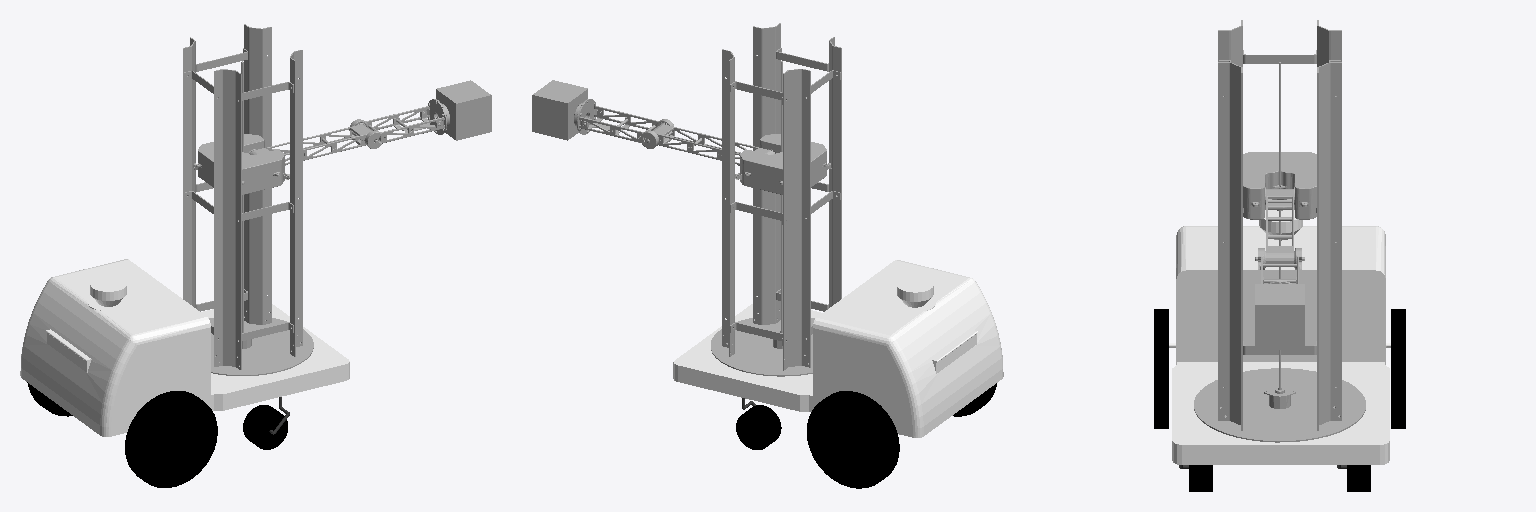
--- What the picture shows (computed from the rendered views, not written in the file) ---
The picture shows the robot from 3 angles, left to right: view 1: azimuth 30°, elevation 25°; view 2: azimuth 150°, elevation 25°; view 3: azimuth 270°, elevation 25°; orthographic projection.
Robot: butler5 — 18 links, 17 joints (3 revolute, 6 continuous, 1 prismatic, 7 fixed); root link base_link; default pose: all joints at 0.
Visible links, largest first — view 1: base_link, tower, back_right_wheel, arm_base, hand, arm_second, front_right_swivel_wheel, arm_first; view 2: base_link, tower, back_left_wheel, arm_base, hand, arm_second, front_left_swivel_wheel, arm_first; view 3: tower, base_link, arm_base, hand, back_right_wheel, back_left_wheel, arm_first, front_right_swivel_wheel, front_left_swivel_wheel, arm_second.
Boxes of the visible links, <box> form: base_link: <box>20,259,349,436</box>; tower: <box>183,24,313,375</box>; back_right_wheel: <box>125,391,217,487</box>; arm_base: <box>193,134,289,194</box>; hand: <box>436,80,491,140</box>; arm_second: <box>349,99,449,148</box>; front_right_swivel_wheel: <box>243,405,287,449</box>; arm_first: <box>249,123,378,164</box>; base_link: <box>673,260,1003,437</box>; tower: <box>711,23,841,376</box>; back_left_wheel: <box>807,391,899,488</box>; arm_base: <box>735,134,831,194</box>; hand: <box>532,80,587,140</box>; arm_second: <box>574,99,673,148</box>; front_left_swivel_wheel: <box>736,405,781,449</box>; arm_first: <box>652,123,774,164</box>; tower: <box>1194,20,1365,442</box>; base_link: <box>1169,210,1390,464</box>; arm_base: <box>1243,152,1316,219</box>; hand: <box>1255,284,1304,349</box>; back_right_wheel: <box>1154,309,1168,428</box>; back_left_wheel: <box>1391,309,1405,428</box>; arm_first: <box>1265,189,1294,267</box>; front_right_swivel_wheel: <box>1189,465,1212,491</box>; front_left_swivel_wheel: <box>1347,465,1370,491</box>; arm_second: <box>1255,248,1304,283</box>.
Bounding box of the posed robot: 1.19 × 0.512 × 1 m (x, y, z).
5 mesh visuals loaded from 5 distinct referenced files (5 binary STL).

robot.urdf — butler5:
<?xml version="1.0" ?>
<!-- =================================================================================== -->
<!-- |    This document was autogenerated by xacro from butler51.urdf.xacro            | -->
<!-- |    EDITING THIS FILE BY HAND IS NOT RECOMMENDED                                 | -->
<!-- =================================================================================== -->
<robot name="butler5" xmlns:xacro="http://www.ros.org/wiki/xacro">
  <material name="Black">
    <color rgba="0.0 0.0 0.0 1.0"/>
  </material>
  <material name="Blue">
    <color rgba="0.0 0.0 0.8 1.0"/>
  </material>
  <material name="Green">
    <color rgba="0.0 0.1 0.0 1.0"/>
  </material>
  <material name="DarkGreen">
    <color rgba="0.2 0.6 0.0 1.0"/>
  </material>
  <material name="Gray">
    <color rgba="0.7 0.7 0.7 1.0"/>
  </material>
  <material name="DarkGray">
    <color rgba="0.3 0.3 0.3 1.0"/>
  </material>
  <material name="Red">
    <color rgba="0.8 0.0 0.0 1.0"/>
  </material>
  <material name="Purple">
    <color rgba="1.0 0.0 1.0 1.0"/>
  </material>
  <material name="White">
    <color rgba="1.0 1.0 1.0 1.0"/>
  </material>
  <material name="Yellow">
    <color rgba="0.8 0.8 0.0 1.0"/>
  </material>
  <!-- in kg-->
  <!--
  <property name="base_x_origin_to_wheel_origin" value="0.25" />
  <property name="base_y_origin_to_wheel_origin" value="0.3" />
  <property name="base_z_origin_to_wheel_origin" value="0.0" />
-->
  <!-- in kg-->
  <!--
  <property name="base_x_origin_to_wheel_origin" value="0.25" />
  <property name="base_y_origin_to_wheel_origin" value="0.3" />
  <property name="base_z_origin_to_wheel_origin" value="0.0" />
-->
  <link name="base_link">
    <inertial>
      <origin rpy="1.57079632679 0 0" xyz="0.17 0.0022486 -0.08"/>
      <mass value="15"/>
      <inertia ixx="0.0044425" ixy="0" ixz="0" iyy="0.00714125" iyz="0" izz="0.00714125"/>
    </inertial>
    <visual>
      <origin rpy="1.57079632679 0 0" xyz="0.17 0.0022486 -0.08"/>
      <geometry>
        <mesh filename="package://butler5/meshes/base_link.STL"/>
      </geometry>
      <material name="">
        <color rgba="1 1 1 1"/>
      </material>
    </visual>
    <collision>
      <origin rpy="1.57079632679 0 0" xyz="0.17 0.0022486 -0.08"/>
      <geometry>
        <mesh filename="package://butler5/meshes/base_link.STL"/>
        <!--<box size="0.65 0.50 0.20"/>-->
      </geometry>
    </collision>
  </link>
  <gazebo reference="base_link">
    <material>Gazebo/Green</material>
    <turnGravityOff>false</turnGravityOff>
  </gazebo>
  <link name="tower">
    <inertial>
      <origin rpy="0 0 0" xyz="-0.0034061 -1.2124E-10 -0.048553"/>
      <mass value="0.0031399"/>
      <inertia ixx="0.0013028" ixy="0" ixz="-1.26E-06" iyy="0.001174" iyz="0" izz="0.0020233"/>
    </inertial>
    <visual>
      <origin rpy="0 0 0" xyz="0 0 -0.08"/>
      <geometry>
        <mesh filename="package://butler5/meshes/tower.STL"/>
      </geometry>
      <material name="">
        <color rgba="0.75294 0.75294 0.75294 1"/>
      </material>
    </visual>
    <!-- <collision>
      <origin xyz="0 0 0" rpy="0 0 0" />
      <geometry>
        <mesh filename="package://butler5/meshes/tower.STL" />
      </geometry>
    </collision>-->
  </link>
  <gazebo reference="tower">
    <turnGravityOff>false</turnGravityOff>
  </gazebo>
  <joint name="tower_joint" type="revolute">
    <origin rpy="0 0 0" xyz="0.34 0 0.55878"/>
    <parent link="base_link"/>
    <child link="tower"/>
    <axis xyz="0 0 1"/>
    <limit effort="0.5" lower="-1.57079632679" upper="1.57079632679" velocity="0.78539816339"/>
  </joint>
  <!-- <link name="kinect">
    <inertial>
      <origin xyz="0.12303 3.7194E-08 -0.00089767" rpy="0 0 0" />
     <mass
        value="0.00035067" />
      <inertia
        ixx="0.00038172"
        ixy="0"
        ixz="-6.57E-06"
        iyy="0.0028934"
        iyz="-2E-08"
        izz="0.0031072" />
    </inertial>
    <visual>
        <geometry>
       <box size="0.064 0.121 0.0381"/>
    </geometry>
     <material name="Blue"/>
     <origin xyz="0 0 0"/>
     </visual>
  </link>

  <joint name="kinect_joint" type="fixed">
     <origin xyz="-0.2 0 0.2" rpy="0 ${M_PI/10} 0"/>
     <<origin xyz="0.5 0 0.84" rpy="0 ${M_PI/10} 0"/>
     <parent link="tower"/>
     <child link="kinect"/>
  </joint>-->
  <link name="arm_base">
    <inertial>
      <origin rpy="0 0 0" xyz="-0.0040016 4.112E-08 -0.00090622"/>
      <mass value="0.0031399"/>
      <inertia ixx="0.00018906" ixy="0" ixz="0" iyy="0.005442" iyz="0" izz="0.0055646"/>
    </inertial>
    <visual>
      <origin rpy="0 0 0" xyz="-0.0040016 4.112E-08 -0.00090622"/>
      <geometry>
        <mesh filename="package://butler5/meshes/arm_base.STL"/>
      </geometry>
      <material name="">
        <color rgba="0.75294 0.75294 0.75294 1"/>
      </material>
    </visual>
    <!-- <collision>
      <origin xyz="0 0 0" rpy="0 0 0" />
      <geometry>
        <mesh filename="package://butler5/meshes/arm_base.STL" />
      </geometry>
    </collision>-->
  </link>
  <gazebo reference="arm_base">
    <turnGravityOff>false</turnGravityOff>
  </gazebo>
  <joint name="arm_base_joint" type="prismatic">
    <origin rpy="0 0 0" xyz="0 0 0.0081114"/>
    <parent link="tower"/>
    <child link="arm_base"/>
    <axis xyz="0 0 1"/>
    <limit effort="10" lower="-0.32" upper="0.32" velocity="0.1"/>
  </joint>
  <link name="arm_first">
    <inertial>
      <origin rpy="0 0 0" xyz="0.14167 5.1317E-07 6.6613E-16"/>
      <!--<mass value="0.33757" />-->
      <mass value="0.0033757"/>
      <inertia ixx="0.00018906" ixy="0" ixz="0" iyy="0.005442" iyz="0" izz="0.0055646"/>
    </inertial>
    <visual>
      <origin rpy="0 0 0" xyz="0 0 0"/>
      <geometry>
        <mesh filename="package://butler5/meshes/arm_first.STL"/>
      </geometry>
      <material name="">
        <color rgba="0.75294 0.75294 0.75294 1"/>
      </material>
    </visual>
    <!--<collision>
      <origin xyz="0 0 0" rpy="0 0 0" />
      <geometry>
        <mesh filename="package://butler5/meshes/arm_first.STL" />
      </geometry>
    </collision>-->
  </link>
  <gazebo reference="arm_first">
    <turnGravityOff>false</turnGravityOff>
  </gazebo>
  <joint name="arm_first_joint" type="revolute">
    <origin rpy="0 0 0" xyz="0.0501 0 0"/>
    <parent link="arm_base"/>
    <child link="arm_first"/>
    <axis xyz="0 1 0"/>
    <limit effort="5" lower="-1.5708" upper="1.5708" velocity="0.7854"/>
  </joint>
  <link name="arm_second">
    <inertial>
      <origin rpy="0 0 0" xyz="0.12303 3.7194E-08 -0.00089767"/>
      <mass value="0.0035067"/>
      <inertia ixx="0.00038172" ixy="0" ixz="-6.57E-06" iyy="0.0028934" iyz="-2E-08" izz="0.0031072"/>
    </inertial>
    <visual>
      <origin rpy="0 0 0" xyz="0 0 0"/>
      <geometry>
        <mesh filename="package://butler5/meshes/arm_second.STL"/>
      </geometry>
      <material name="">
        <color rgba="0.75294 0.75294 0.75294 1"/>
      </material>
    </visual>
    <collision>
      <origin rpy="0 0 0" xyz="0 0 0"/>
      <geometry>
        <mesh filename="package://butler5/meshes/arm_second.STL"/>
      </geometry>
    </collision>
  </link>
  <gazebo reference="arm_second">
    <turnGravityOff>false</turnGravityOff>
  </gazebo>
  <joint name="arm_second_joint" type="revolute">
    <origin rpy="0 0 0" xyz="0.3 0 0"/>
    <parent link="arm_first"/>
    <child link="arm_second"/>
    <axis xyz="0 1 0"/>
    <limit effort="3" lower="-1.57079632679" upper="1.57079632679" velocity="0.78539816339"/>
  </joint>
  <link name="hand">
    <inertial>
      <origin rpy="0 0 0" xyz="0.1 0 0"/>
      <mass value="0.0035067"/>
      <inertia ixx="0.00038172" ixy="0" ixz="-6.57E-06" iyy="0.0028934" iyz="-2E-08" izz="0.0031072"/>
    </inertial>
    <visual>
      <origin rpy="0 0 0" xyz="0.1 0 0"/>
      <geometry>
        <box size="0.1 0.1 0.1"/>
      </geometry>
      <material name="">
        <color rgba="0.75294 0.75294 0.75294 1"/>
      </material>
    </visual>
    <collision>
      <origin rpy="0 0 0" xyz="0.1 0 0"/>
      <geometry>
        <box size="0.1 0.1 0.1"/>
      </geometry>
    </collision>
  </link>
  <!--
<joint name="hand_joint" type="revolute">
    <origin xyz="0.175 0 0" rpy="0 0 0" />
    <parent link="arm_second" />
    <child link="hand" />
    <axis xyz="1 0 0" />
    <limit
      lower="-1.57079632679"
      upper="1.57079632679"
      effort="3"
      velocity="0.78539816339" />
  </joint>
-->
  <joint name="hand_joint" type="fixed">
    <origin rpy="0 0 0" xyz="0.175 0 0"/>
    <parent link="arm_second"/>
    <child link="hand"/>
  </joint>
  <gazebo reference="hand">
    <turnGravityOff>false</turnGravityOff>
  </gazebo>
  <transmission name="tower_joint_trans">
    <type>transmission_interface/SimpleTransmission</type>
    <actuator name="$tower_joint_motor">
      <mechanicalReduction>1</mechanicalReduction>
    </actuator>
    <joint name="tower_joint">
      <hardwareInterface>PositionJointInterface</hardwareInterface>
    </joint>
  </transmission>
  <transmission name="arm_base_joint_trans">
    <type>transmission_interface/SimpleTransmission</type>
    <actuator name="$arm_base_joint_motor">
      <mechanicalReduction>1</mechanicalReduction>
    </actuator>
    <joint name="arm_base_joint">
      <hardwareInterface>PositionJointInterface</hardwareInterface>
    </joint>
  </transmission>
  <transmission name="arm_first_joint_trans">
    <type>transmission_interface/SimpleTransmission</type>
    <actuator name="$arm_first_joint_motor">
      <mechanicalReduction>1</mechanicalReduction>
    </actuator>
    <joint name="arm_first_joint">
      <hardwareInterface>PositionJointInterface</hardwareInterface>
    </joint>
  </transmission>
  <transmission name="arm_second_joint_trans">
    <type>transmission_interface/SimpleTransmission</type>
    <actuator name="$arm_second_joint_motor">
      <mechanicalReduction>1</mechanicalReduction>
    </actuator>
    <joint name="arm_second_joint">
      <hardwareInterface>PositionJointInterface</hardwareInterface>
    </joint>
  </transmission>
  <!--fb : front, back ; lr: left, right -->
  <link name="back_right_wheel">
    <visual>
      <origin rpy="1.57079632679 0 0" xyz="0 0 0"/>
      <geometry>
        <cylinder length="0.032" radius="0.1225"/>
      </geometry>
      <material name="Black"/>
    </visual>
    <collision>
      <origin rpy="1.57079632679 0 0" xyz="0 0 0"/>
      <geometry>
        <cylinder length="0.032" radius="0.1225"/>
      </geometry>
    </collision>
    <inertial>
      <mass value="0.5"/>
      <!-- <origin xyz="0 0 0" rpy="${flip*M_PI/2} 0 0"/> -->
      <origin xyz="0 0 0"/>
      <inertia ixx="0.00191844791667" ixy="0" ixz="0" iyy="0.00191844791667" iyz="0" izz="0.0037515625"/>
    </inertial>
  </link>
  <gazebo reference="back_right_wheel">
    <mu1 value="100.0"/>
    <mu2 value="100.0"/>
    <kp value="10000000.0"/>
    <kd value="1.0"/>
    <fdir1 value="1 0 0"/>
    <material>Gazebo/Black</material>
    <turnGravityOff>false</turnGravityOff>
  </gazebo>
  <joint name="back_right_wheel_joint" type="continuous">
    <parent link="base_link"/>
    <child link="back_right_wheel"/>
    <origin rpy="0 0 0" xyz="0.0 -0.24 0.0"/>
    <axis rpy="0 0 0" xyz="0 1 0"/>
    <limit effort="1000" velocity="100"/>
    <joint_properties damping="0.0" friction="0.0"/>
  </joint>
  <!-- Transmission is important to link the joints and the controller -->
  <!--
    <transmission name="${fb}_${lr}_wheel_joint_trans">
      <type>transmission_interface/SimpleTransmission</type>
      <joint name="${fb}_${lr}_wheel_joint">
        <hardwareInterface>EffortJointInterface</hardwareInterface>
      </joint>
      <actuator name="${fb}_${lr}_wheel_joint_motor">
        <hardwareInterface>EffortJointInterface</hardwareInterface>
        <mechanicalReduction>1</mechanicalReduction>
      </actuator>
    </transmission>-->
  <!--fb : front, back ; lr: left, right -->
  <link name="back_left_wheel">
    <visual>
      <origin rpy="1.57079632679 0 0" xyz="0 0 0"/>
      <geometry>
        <cylinder length="0.032" radius="0.1225"/>
      </geometry>
      <material name="Black"/>
    </visual>
    <collision>
      <origin rpy="1.57079632679 0 0" xyz="0 0 0"/>
      <geometry>
        <cylinder length="0.032" radius="0.1225"/>
      </geometry>
    </collision>
    <inertial>
      <mass value="0.5"/>
      <!-- <origin xyz="0 0 0" rpy="${flip*M_PI/2} 0 0"/> -->
      <origin xyz="0 0 0"/>
      <inertia ixx="0.00191844791667" ixy="0" ixz="0" iyy="0.00191844791667" iyz="0" izz="0.0037515625"/>
    </inertial>
  </link>
  <gazebo reference="back_left_wheel">
    <mu1 value="100.0"/>
    <mu2 value="100.0"/>
    <kp value="10000000.0"/>
    <kd value="1.0"/>
    <fdir1 value="1 0 0"/>
    <material>Gazebo/Black</material>
    <turnGravityOff>false</turnGravityOff>
  </gazebo>
  <joint name="back_left_wheel_joint" type="continuous">
    <parent link="base_link"/>
    <child link="back_left_wheel"/>
    <origin rpy="0 0 0" xyz="0.0 0.24 0.0"/>
    <axis rpy="0 0 0" xyz="0 1 0"/>
    <limit effort="1000" velocity="100"/>
    <joint_properties damping="0.0" friction="0.0"/>
  </joint>
  <!-- Transmission is important to link the joints and the controller -->
  <!--
    <transmission name="${fb}_${lr}_wheel_joint_trans">
      <type>transmission_interface/SimpleTransmission</type>
      <joint name="${fb}_${lr}_wheel_joint">
        <hardwareInterface>EffortJointInterface</hardwareInterface>
      </joint>
      <actuator name="${fb}_${lr}_wheel_joint_motor">
        <hardwareInterface>EffortJointInterface</hardwareInterface>
        <mechanicalReduction>1</mechanicalReduction>
      </actuator>
    </transmission>-->
  <!--fb : front, back ; lr: left, right -->
  <link name="sw_arm_right_1">
    <inertial>
      <mass value="0.01"/>
      <origin xyz="0 0 0"/>
      <inertia ixx="3.04e-06" ixy="0" ixz="0" iyy="3.04e-06" iyz="0" izz="8e-08"/>
    </inertial>
    <visual>
      <geometry>
        <cylinder length="0.06" radius="0.004"/>
      </geometry>
      <material name="silver">
        <color rgba="0.3 0.3 0.3 1"/>
      </material>
      <origin rpy="0 0 0" xyz="0 0 -0.03"/>
    </visual>
  </link>
  <joint name="sw_arm_right_connect_1" type="continuous">
    <origin rpy="0 0 0" xyz="0.355 -0.16 0.03"/>
    <axis rpy="0 0 0" xyz="0 0 1"/>
    <parent link="base_link"/>
    <child link="sw_arm_right_1"/>
    <limit effort="100" velocity="100"/>
    <joint_properties damping="0.0" friction="0.0"/>
  </joint>
  <link name="sw_arm_right_2">
    <inertial>
      <mass value="0.01"/>
      <origin xyz="0 0 0"/>
      <inertia ixx="1.37333333333e-06" ixy="0" ixz="0" iyy="1.37333333333e-06" iyz="0" izz="8e-08"/>
    </inertial>
    <visual>
      <geometry>
        <cylinder length="0.04" radius="0.004"/>
      </geometry>
      <material name="silver">
        <color rgba="0.3 0.3 0.3 1"/>
      </material>
      <origin rpy="0 0 0" xyz="0 0 0.02"/>
    </visual>
  </link>
  <joint name="sw_arm_right_connect_2" type="fixed">
    <origin rpy="1.5707 0 0" xyz="0 0 -0.06"/>
    <parent link="sw_arm_right_1"/>
    <child link="sw_arm_right_2"/>
  </joint>
  <link name="sw_arm_right_3">
    <inertial>
      <mass value="0.01"/>
      <origin xyz="0 0 0"/>
      <inertia ixx="3.04e-06" ixy="0" ixz="0" iyy="3.04e-06" iyz="0" izz="8e-08"/>
    </inertial>
    <visual>
      <geometry>
        <cylinder length="0.06" radius="0.004"/>
      </geometry>
      <material name="silver">
        <color rgba="0.3 0.3 0.3 1"/>
      </material>
      <origin rpy="0 0 0" xyz="0 0 -0.03"/>
    </visual>
  </link>
  <joint name="sw_arm_right_connect_3" type="fixed">
    <origin rpy="-1.5707 0 -0.78" xyz="0 0 0.04"/>
    <parent link="sw_arm_right_2"/>
    <child link="sw_arm_right_3"/>
  </joint>
  <link name="sw_arm_right_4">
    <inertial>
      <mass value="0.01"/>
      <origin xyz="0 0 0"/>
      <inertia ixx="1.37333333333e-06" ixy="0" ixz="0" iyy="1.37333333333e-06" iyz="0" izz="8e-08"/>
    </inertial>
    <visual>
      <geometry>
        <cylinder length="0.04" radius="0.004"/>
      </geometry>
      <material name="silver">
        <color rgba="0.3 0.3 0.3 1"/>
      </material>
      <origin rpy="0 0 0" xyz="0 0 -0.02"/>
    </visual>
  </link>
  <joint name="sw_arm_right_connect_4" type="fixed">
    <origin rpy="1.5707 0 0" xyz="0 0 -0.060"/>
    <parent link="sw_arm_right_3"/>
    <child link="sw_arm_right_4"/>
  </joint>
  <!-- Wheel connected to fourth-->
  <link name="front_right_swivel_wheel">
    <visual>
      <origin rpy="0.0 0 0" xyz="0 0 0"/>
      <geometry>
        <cylinder length="0.05" radius="0.05"/>
      </geometry>
      <material name="Black"/>
    </visual>
    <collision>
      <origin rpy="0 0 0" xyz="0 0 0"/>
      <geometry>
        <cylinder length="0.05" radius="0.05"/>
      </geometry>
    </collision>
    <inertial>
      <mass value="0.5"/>
      <origin xyz="0 0 0"/>
      <inertia ixx="0.000416666666667" ixy="0" ixz="0" iyy="0.000416666666667" iyz="0" izz="0.000625"/>
    </inertial>
  </link>
  <gazebo reference="front_right_swivel_wheel">
    <mu1 value="0.8"/>
    <mu2 value="0.8"/>
    <kp value="10000000.0"/>
    <kd value="1.0"/>
    <fdir1 value="1 0 0"/>
    <material>Gazebo/Black</material>
    <turnGravityOff>false</turnGravityOff>
  </gazebo>
  <joint name="front_right_swivel_wheel_joint" type="continuous">
    <parent link="sw_arm_right_4"/>
    <child link="front_right_swivel_wheel"/>
    <origin rpy="0 0 0" xyz="0 0 -0.04"/>
    <axis rpy="0 0 0" xyz="0 0 1"/>
    <limit effort="100" velocity="100"/>
    <joint_properties damping="0.0" friction="0.0"/>
  </joint>
  <!-- Transmission is important to link the joints and the controller -->
  <transmission name="front_right_swivel_wheel_joint_trans">
    <type>transmission_interface/SimpleTransmission</type>
    <joint name="front_right_swivel_wheel_joint">
      <hardwareInterface>EffortJointInterface</hardwareInterface>
    </joint>
    <actuator name="front_right_swivel_wheel_joint_motor">
      <hardwareInterface>EffortJointInterface</hardwareInterface>
      <mechanicalReduction>1</mechanicalReduction>
    </actuator>
  </transmission>
  <!--fb : front, back ; lr: left, right -->
  <link name="sw_arm_left_1">
    <inertial>
      <mass value="0.01"/>
      <origin xyz="0 0 0"/>
      <inertia ixx="3.04e-06" ixy="0" ixz="0" iyy="3.04e-06" iyz="0" izz="8e-08"/>
    </inertial>
    <visual>
      <geometry>
        <cylinder length="0.06" radius="0.004"/>
      </geometry>
      <material name="silver">
        <color rgba="0.3 0.3 0.3 1"/>
      </material>
      <origin rpy="0 0 0" xyz="0 0 -0.03"/>
    </visual>
  </link>
  <joint name="sw_arm_left_connect_1" type="continuous">
    <origin rpy="0 0 0" xyz="0.355 0.16 0.03"/>
    <axis rpy="0 0 0" xyz="0 0 1"/>
    <parent link="base_link"/>
    <child link="sw_arm_left_1"/>
    <limit effort="100" velocity="100"/>
    <joint_properties damping="0.0" friction="0.0"/>
  </joint>
  <link name="sw_arm_left_2">
    <inertial>
      <mass value="0.01"/>
      <origin xyz="0 0 0"/>
      <inertia ixx="1.37333333333e-06" ixy="0" ixz="0" iyy="1.37333333333e-06" iyz="0" izz="8e-08"/>
    </inertial>
    <visual>
      <geometry>
        <cylinder length="0.04" radius="0.004"/>
      </geometry>
      <material name="silver">
        <color rgba="0.3 0.3 0.3 1"/>
      </material>
      <origin rpy="0 0 0" xyz="0 0 0.02"/>
    </visual>
  </link>
  <joint name="sw_arm_left_connect_2" type="fixed">
    <origin rpy="1.5707 0 0" xyz="0 0 -0.06"/>
    <parent link="sw_arm_left_1"/>
    <child link="sw_arm_left_2"/>
  </joint>
  <link name="sw_arm_left_3">
    <inertial>
      <mass value="0.01"/>
      <origin xyz="0 0 0"/>
      <inertia ixx="3.04e-06" ixy="0" ixz="0" iyy="3.04e-06" iyz="0" izz="8e-08"/>
    </inertial>
    <visual>
      <geometry>
        <cylinder length="0.06" radius="0.004"/>
      </geometry>
      <material name="silver">
        <color rgba="0.3 0.3 0.3 1"/>
      </material>
      <origin rpy="0 0 0" xyz="0 0 -0.03"/>
    </visual>
  </link>
  <joint name="sw_arm_left_connect_3" type="fixed">
    <origin rpy="-1.5707 0 -0.78" xyz="0 0 0.04"/>
    <parent link="sw_arm_left_2"/>
    <child link="sw_arm_left_3"/>
  </joint>
  <link name="sw_arm_left_4">
    <inertial>
      <mass value="0.01"/>
      <origin xyz="0 0 0"/>
      <inertia ixx="1.37333333333e-06" ixy="0" ixz="0" iyy="1.37333333333e-06" iyz="0" izz="8e-08"/>
    </inertial>
    <visual>
      <geometry>
        <cylinder length="0.04" radius="0.004"/>
      </geometry>
      <material name="silver">
        <color rgba="0.3 0.3 0.3 1"/>
      </material>
      <origin rpy="0 0 0" xyz="0 0 -0.02"/>
    </visual>
  </link>
  <joint name="sw_arm_left_connect_4" type="fixed">
    <origin rpy="1.5707 0 0" xyz="0 0 -0.060"/>
    <parent link="sw_arm_left_3"/>
    <child link="sw_arm_left_4"/>
  </joint>
  <!-- Wheel connected to fourth-->
  <link name="front_left_swivel_wheel">
    <visual>
      <origin rpy="0.0 0 0" xyz="0 0 0"/>
      <geometry>
        <cylinder length="0.05" radius="0.05"/>
      </geometry>
      <material name="Black"/>
    </visual>
    <collision>
      <origin rpy="0 0 0" xyz="0 0 0"/>
      <geometry>
        <cylinder length="0.05" radius="0.05"/>
      </geometry>
    </collision>
    <inertial>
      <mass value="0.5"/>
      <origin xyz="0 0 0"/>
      <inertia ixx="0.000416666666667" ixy="0" ixz="0" iyy="0.000416666666667" iyz="0" izz="0.000625"/>
    </inertial>
  </link>
  <gazebo reference="front_left_swivel_wheel">
    <mu1 value="0.8"/>
    <mu2 value="0.8"/>
    <kp value="10000000.0"/>
    <kd value="1.0"/>
    <fdir1 value="1 0 0"/>
    <material>Gazebo/Black</material>
    <turnGravityOff>false</turnGravityOff>
  </gazebo>
  <joint name="front_left_swivel_wheel_joint" type="continuous">
    <parent link="sw_arm_left_4"/>
    <child link="front_left_swivel_wheel"/>
    <origin rpy="0 0 0" xyz="0 0 -0.04"/>
    <axis rpy="0 0 0" xyz="0 0 1"/>
    <limit effort="100" velocity="100"/>
    <joint_properties damping="0.0" friction="0.0"/>
  </joint>
  <!-- Transmission is important to link the joints and the controller -->
  <transmission name="front_left_swivel_wheel_joint_trans">
    <type>transmission_interface/SimpleTransmission</type>
    <joint name="front_left_swivel_wheel_joint">
      <hardwareInterface>EffortJointInterface</hardwareInterface>
    </joint>
    <actuator name="front_left_swivel_wheel_joint_motor">
      <hardwareInterface>EffortJointInterface</hardwareInterface>
      <mechanicalReduction>1</mechanicalReduction>
    </actuator>
  </transmission>
  <!-- GAZEBO STUFF -->
  <gazebo>
    <plugin filename="libam_gazebo_controller_2wd.so" name="automower_gazebo_controller">
      <alwaysOn>true</alwaysOn>
      <updateRate>100.0</updateRate>
      <leftJoint>back_right_wheel_joint</leftJoint>
      <rightJoint>back_left_wheel_joint</rightJoint>
      <wheelSeparation>0.4645</wheelSeparation>
      <wheelDiameter>0.245</wheelDiameter>
      <wheelTorque>100</wheelTorque>
      <commandTopic>cmd_vel</commandTopic>
      <odometryTopic>odom</odometryTopic>
      <odometryFrame>odom_gazebo</odometryFrame>
      <robotBaseFrame>base_link</robotBaseFrame>
      <publishWheelTF>false</publishWheelTF>
      <publishWheelJointState>false</publishWheelJointState>
    </plugin>
    <plugin filename="libgazebo_ros_control.so" name="gazebo_ros_control"/>
    <plugin filename="libhector_gazebo_ros_imu.so" name="imu_plugin">
      <alwaysOn>true</alwaysOn>
      <bodyName>base_link</bodyName>
      <topicName>imu</topicName>
      <serviceName>imu_service</serviceName>
      <updateRate>100.0</updateRate>
      <rpyOffsets>0 0 0</rpyOffsets>
      <gaussianNoise>0.0</gaussianNoise>
      <accelDrift>0.0 0.0 0.0</accelDrift>
      <accelGaussianNoise>0.0 0.0 0.0</accelGaussianNoise>
      <rateDrift>0.0 0.0 0.0</rateDrift>
      <rateGaussianNoise>0.0 0.0 0.0</rateGaussianNoise>
      <headingDrift>0.0</headingDrift>
      <headingGaussianNoise>0.00</headingGaussianNoise>
    </plugin>
    <plugin filename="libam_gazebo_wheelencoder.so" name="am_gazebo_wheelencoder">
  </plugin>
    <plugin filename="libhector_gazebo_ros_gps.so" name="automower_gps_sim">
      <alwaysOn>true</alwaysOn>
      <updateRate>4.0</updateRate>
      <bodyName>base_link</bodyName>
      <topicName>fix</topicName>
      <velocityTopicName>fix_vel</velocityTopicName>
      <drift>5.0 5.0 5.0</drift>
      <gaussianNoise>0.1 0.1 0.1</gaussianNoise>
      <velocityDrift>0 0 0</velocityDrift>
      <velocityGaussianNoise>0.1 0.1 0.1</velocityGaussianNoise>
    </plugin>
  </gazebo>
  <gazebo reference="base_link">
    <sensor name="automower_sensor" type="contact">
      <always_on>true</always_on>
      <update_rate>50</update_rate>
      <contact>
        <collision>base_link_collision</collision>
      </contact>
      <plugin filename="libam_gazebo_sensors.so" name="automower_sensors_plugin">
        <always_on>true</always_on>
        <update_rate>20</update_rate>
        <bumperTopicName>sensor_status</bumperTopicName>
        <loopTopicName>loop</loopTopicName>
        <!-- 0x01 = FC, 0x02 = FR, 0x04 = RL, 0x08 = RR -->
        <loopOutsideSensors>15</loopOutsideSensors>
      </plugin>
    </sensor>
  </gazebo>
</robot>
